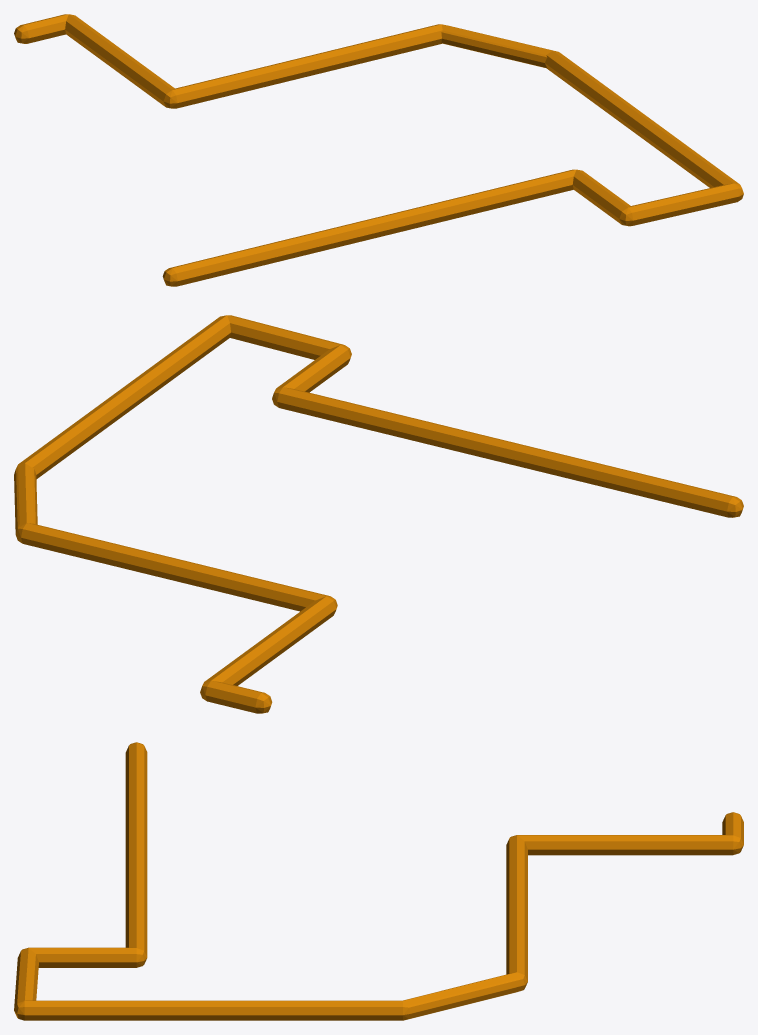
The picture shows the model from 3 angles, top to bottom: view 1: azimuth 30°, elevation 25°; view 2: azimuth 150°, elevation 25°; view 3: azimuth 270°, elevation 25°; orthographic projection. The views are drawn at different scales.
Size of the model in its own units: 586 by 20 by 676.
